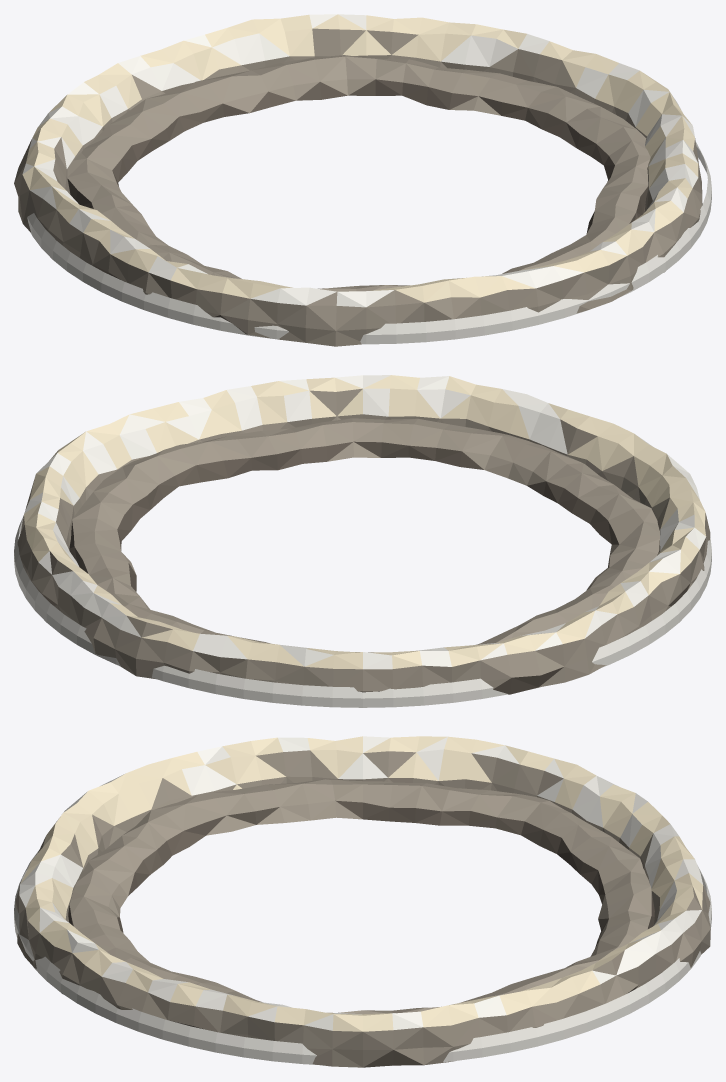
File: Cutscene_Shockwave.fbx
The picture shows the model from 3 angles, top to bottom: view 1: azimuth 30°, elevation 25°; view 2: azimuth 150°, elevation 25°; view 3: azimuth 270°, elevation 25°; orthographic projection.
Visible parts, largest first — view 1: Decor, DecorNeonPorcelain; view 2: Decor, DecorNeonPorcelain; view 3: Decor, DecorNeonPorcelain.
Part boxes in pixels (x1=…): Decor: x1=14, y1=14, x2=702, y2=346; DecorNeonPorcelain: x1=27, y1=142, x2=711, y2=344; Decor: x1=17, y1=375, x2=710, y2=694; DecorNeonPorcelain: x1=14, y1=516, x2=711, y2=707; Decor: x1=15, y1=736, x2=710, y2=1067; DecorNeonPorcelain: x1=14, y1=850, x2=711, y2=1065.
Bounding box in the file's own units: 102 × 8 × 101.
